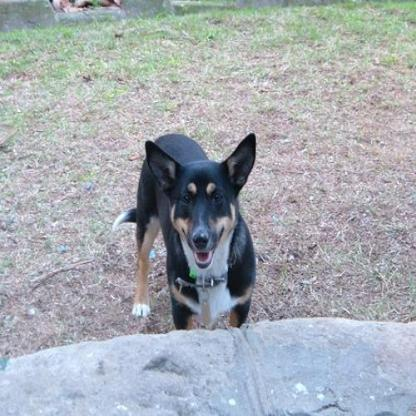kelpie: (112, 131, 262, 325)
